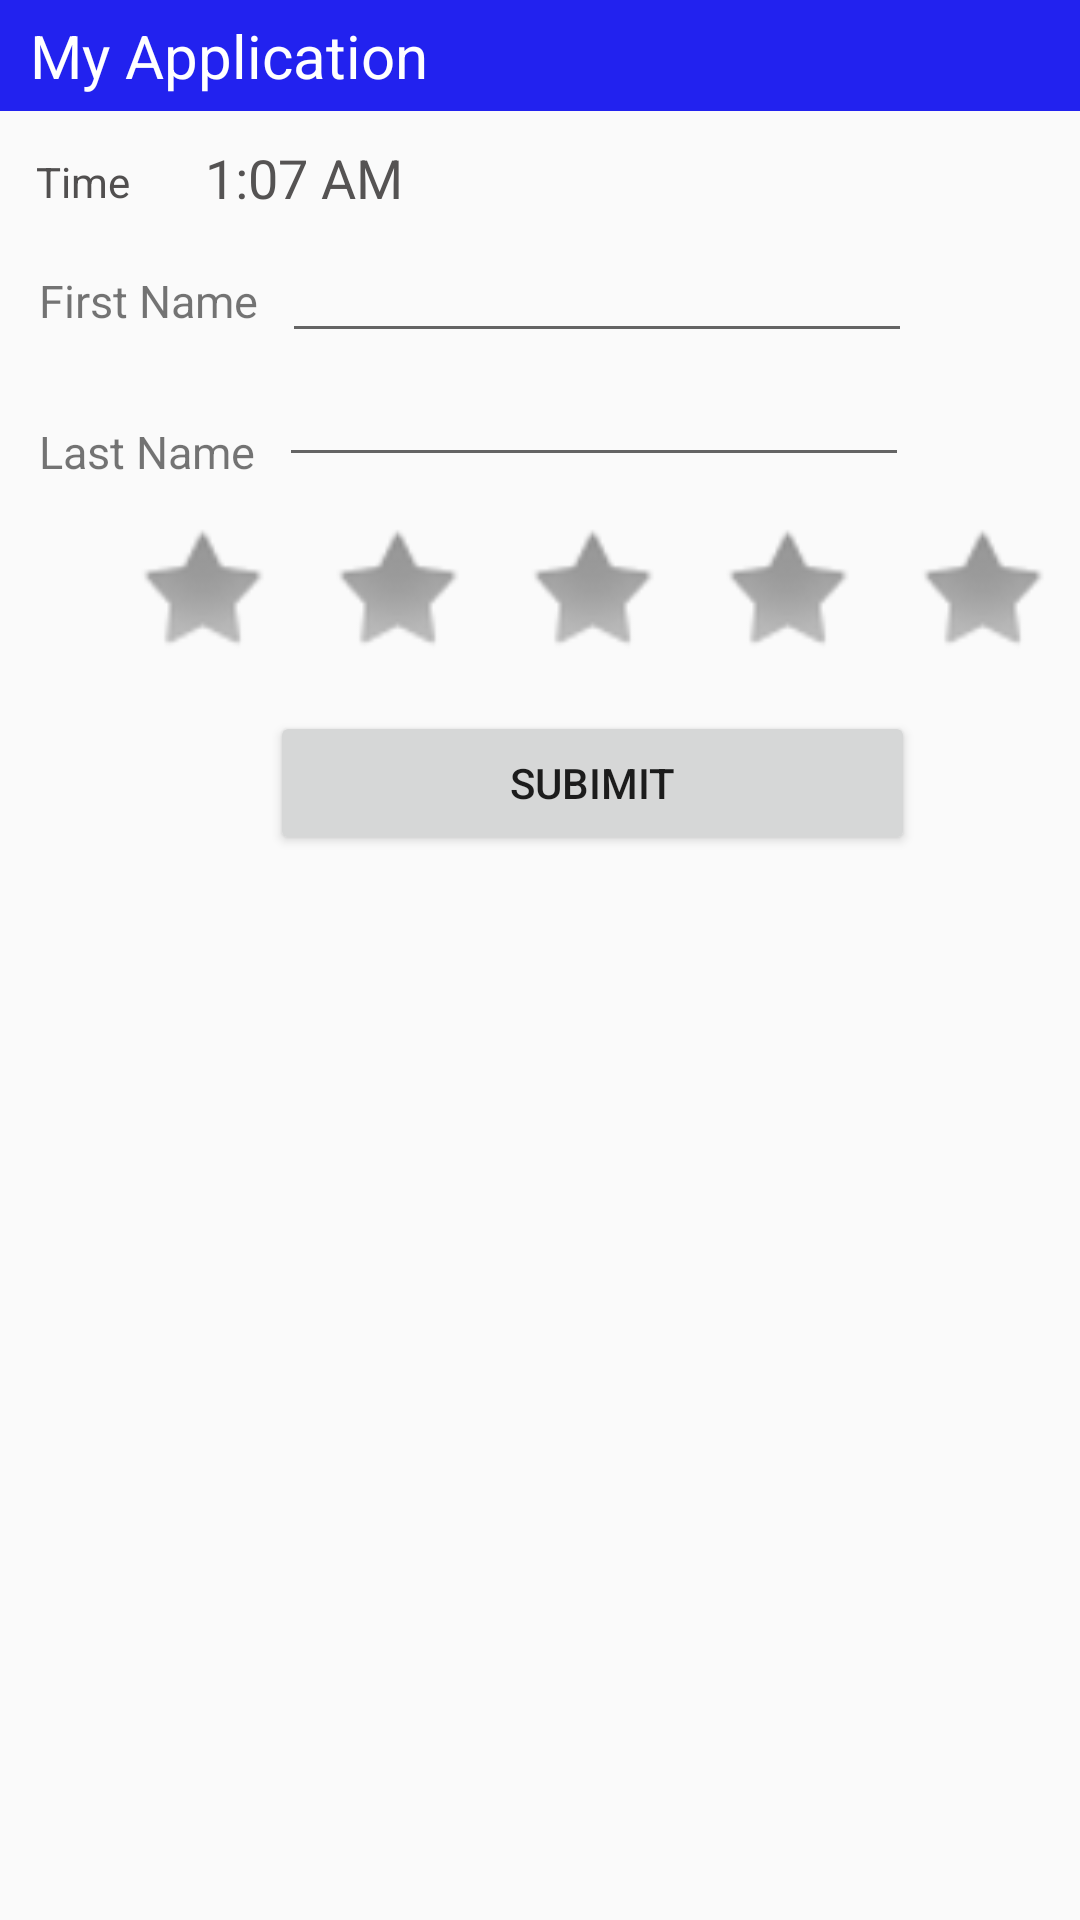

Icon bounding boxes for this 1080w x 1920h phone screenshot, format (x1, y1, x2, y2):
star off: (145, 532, 261, 643), (340, 532, 456, 643), (535, 532, 651, 643), (730, 532, 846, 643), (925, 532, 1041, 643)
